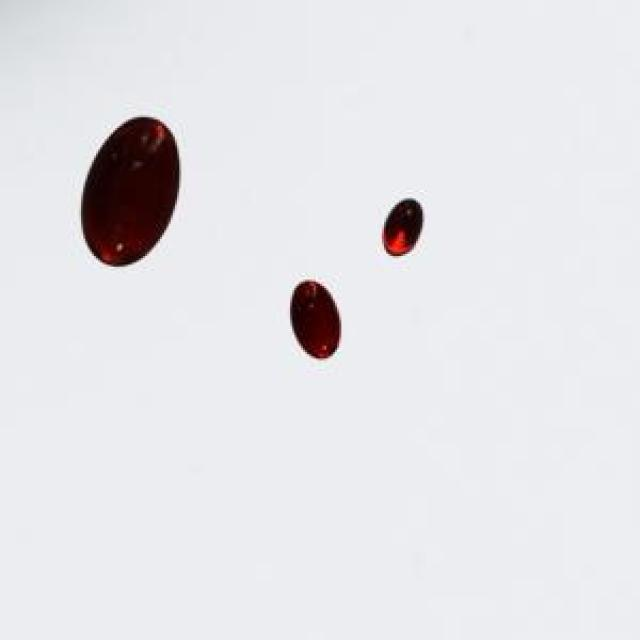Medicol: (66, 98, 190, 287), (278, 266, 354, 371), (372, 185, 433, 268)
